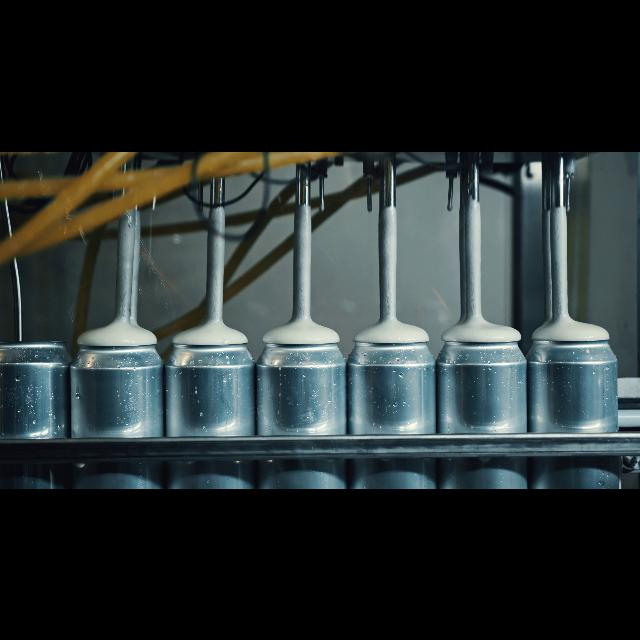empty: (0, 328, 68, 488)
full: (75, 318, 165, 488), (440, 314, 526, 488), (534, 314, 618, 488), (258, 320, 344, 488), (350, 320, 432, 488), (172, 318, 252, 488)
